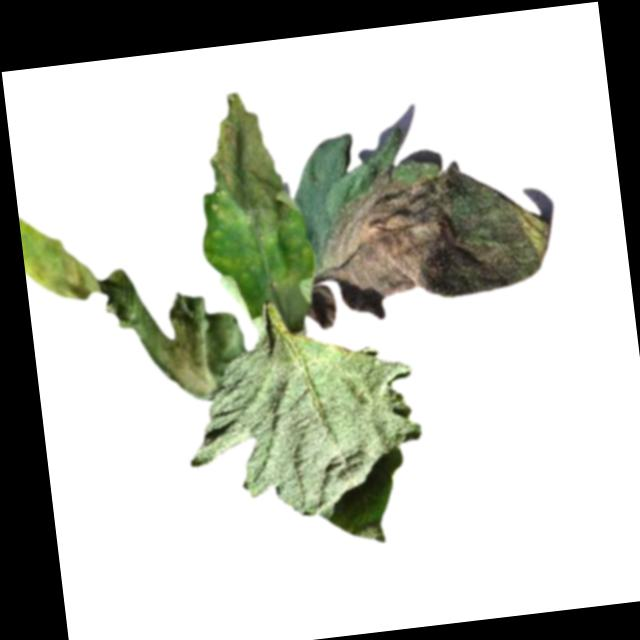Late_blight: (19, 189, 251, 420), (302, 148, 562, 331), (198, 84, 304, 245), (270, 274, 317, 329)
